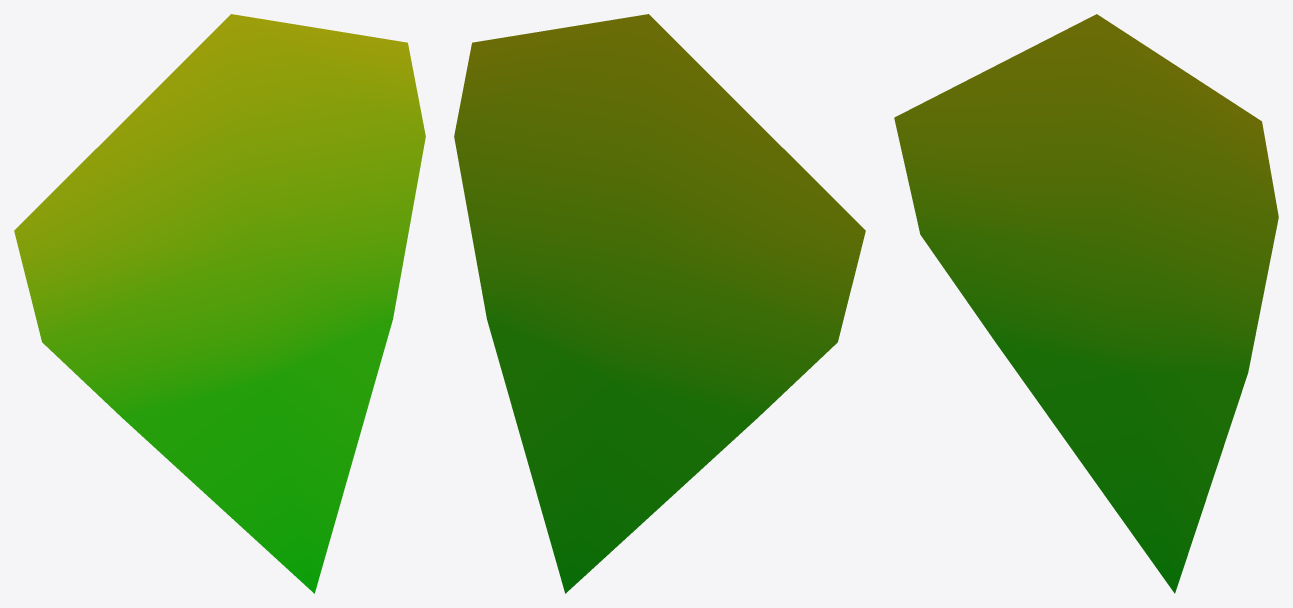
Rendered from Lingonberry_LOD4_Var10.fbx.
The picture shows the model from 3 angles, left to right: view 1: azimuth 30°, elevation 25°; view 2: azimuth 150°, elevation 25°; view 3: azimuth 330°, elevation 25°; orthographic projection. The views are drawn at different scales.
Visible parts, largest first — view 1: _eqqy_Var10_LOD4; view 2: _eqqy_Var10_LOD4; view 3: _eqqy_Var10_LOD4.
Boxes of the visible parts, left/top/right/bottom form: _eqqy_Var10_LOD4: left=14, top=14, right=425, bottom=593; _eqqy_Var10_LOD4: left=454, top=14, right=865, bottom=593; _eqqy_Var10_LOD4: left=894, top=14, right=1278, bottom=593.
Size of the model in its own units: 6.98 by 9.72 by 0.
